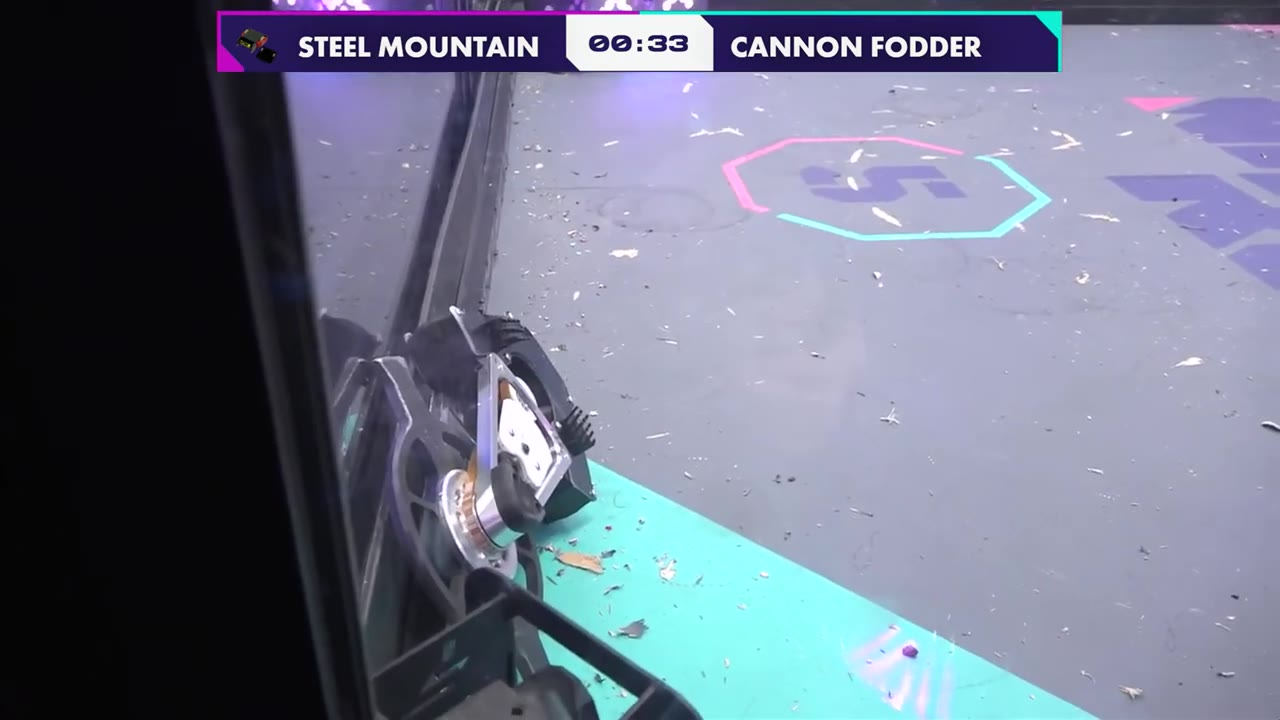combatbot: (381, 306, 598, 613)
